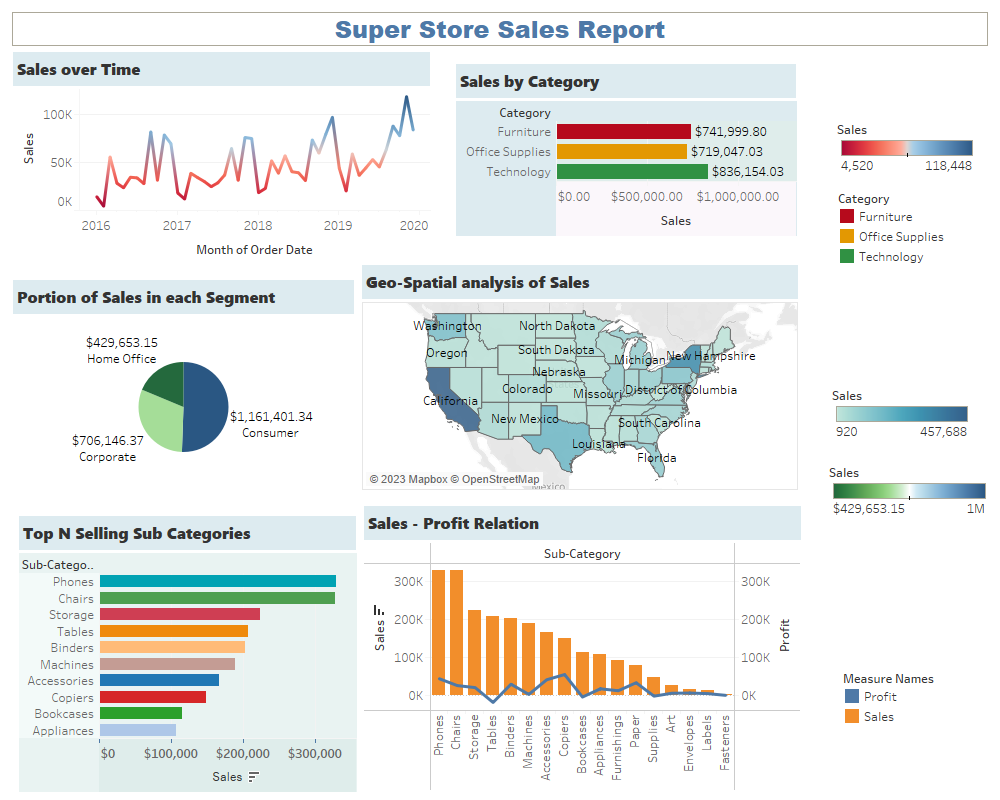

What the dashboard file says about the page in this screenshot:
{"tool":"tableau","page":{"name":"Sales Dashboard","canvas":[1000,800],"ordinal":0},"visuals":[{"type":"title","box":[8,8,984,42]},{"type":"worksheet","title":"Sheet 4","mark":"Automatic","rows":["Sales"],"cols":["Order Date"],"box":[13,52,417,213]},{"type":"worksheet","title":"Sheet 1","mark":"Bar","rows":["Category"],"cols":["Sales"],"box":[456,64,340,183]},{"type":"legend","title":"Sheet 4","param":"[federated.0b3scup1e8ec0j1btqsza0fij1h9].[sum:Sales:qk]","box":[837,117,140,76]},{"type":"legend","title":"Sheet 1","param":"[federated.0b3scup1e8ec0j1btqsza0fij1h9].[none:Category:nk]","box":[837,188,140,78]},{"type":"worksheet","title":"Sheet 6","mark":"Automatic","box":[362,265,436,225]},{"type":"worksheet","title":"Sheet 11","mark":"Pie","box":[13,280,341,217]},{"type":"legend","title":"Sheet 6","param":"[federated.0b3scup1e8ec0j1btqsza0fij1h9].[sum:Sales:qk]","box":[832,383,140,76]},{"type":"legend","title":"Sheet 11","param":"[federated.0b3scup1e8ec0j1btqsza0fij1h9].[sum:Sales:qk]","box":[829,460,161,76]},{"type":"worksheet","title":"Sheet 12","mark":"Automatic","rows":["Sales","Profit"],"cols":["Sub-Category"],"box":[364,506,437,285]},{"type":"worksheet","title":"Sheet 2","mark":"Automatic","rows":["Sub-Category"],"cols":["Sales"],"box":[19,516,337,276]},{"type":"legend","title":"Sheet 12","param":"[federated.0b3scup1e8ec0j1btqsza0fij1h9].[:Measure Names]","box":[842,668,140,58]}]}

Visuals, with their boxes in screenshot pixels (x1, y1, x2, y2), scaled from the page's 1000x800 canvas onto the 1000x800 screenshot:
title: left=8, top=8, right=992, bottom=50
"Sheet 4" worksheet: left=13, top=52, right=430, bottom=265
"Sheet 1" worksheet (Bar marks): left=456, top=64, right=796, bottom=247
"Sheet 4" legend: left=837, top=117, right=977, bottom=193
"Sheet 1" legend: left=837, top=188, right=977, bottom=266
"Sheet 6" worksheet: left=362, top=265, right=798, bottom=490
"Sheet 11" worksheet (Pie marks): left=13, top=280, right=354, bottom=497
"Sheet 6" legend: left=832, top=383, right=972, bottom=459
"Sheet 11" legend: left=829, top=460, right=990, bottom=536
"Sheet 12" worksheet: left=364, top=506, right=801, bottom=791
"Sheet 2" worksheet: left=19, top=516, right=356, bottom=792
"Sheet 12" legend: left=842, top=668, right=982, bottom=726
